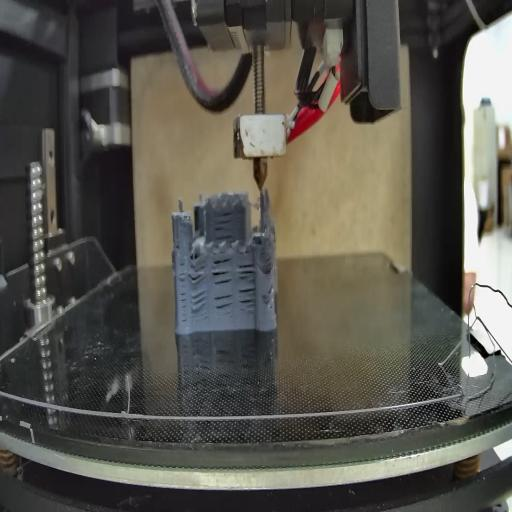cracks: (239, 259, 257, 311), (211, 209, 240, 240), (211, 254, 232, 287), (214, 290, 233, 313), (181, 262, 188, 323), (192, 289, 208, 313), (190, 264, 208, 285), (263, 250, 274, 272), (175, 237, 186, 257), (267, 282, 274, 304)
